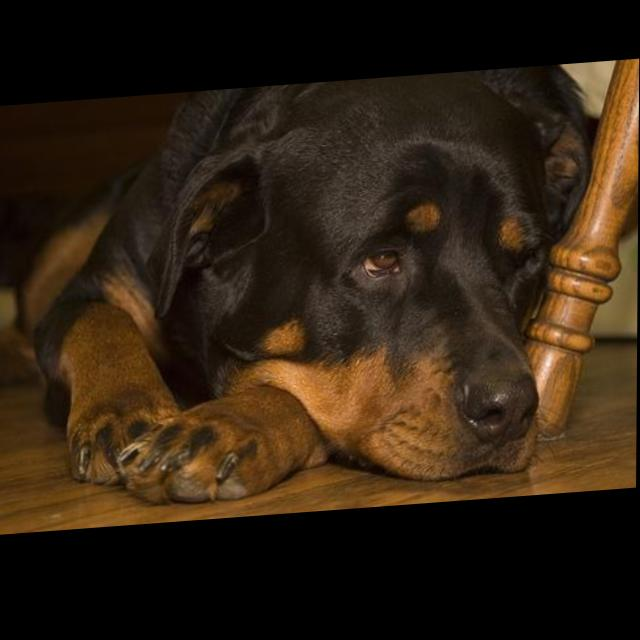rottweiler: (29, 71, 603, 518)
